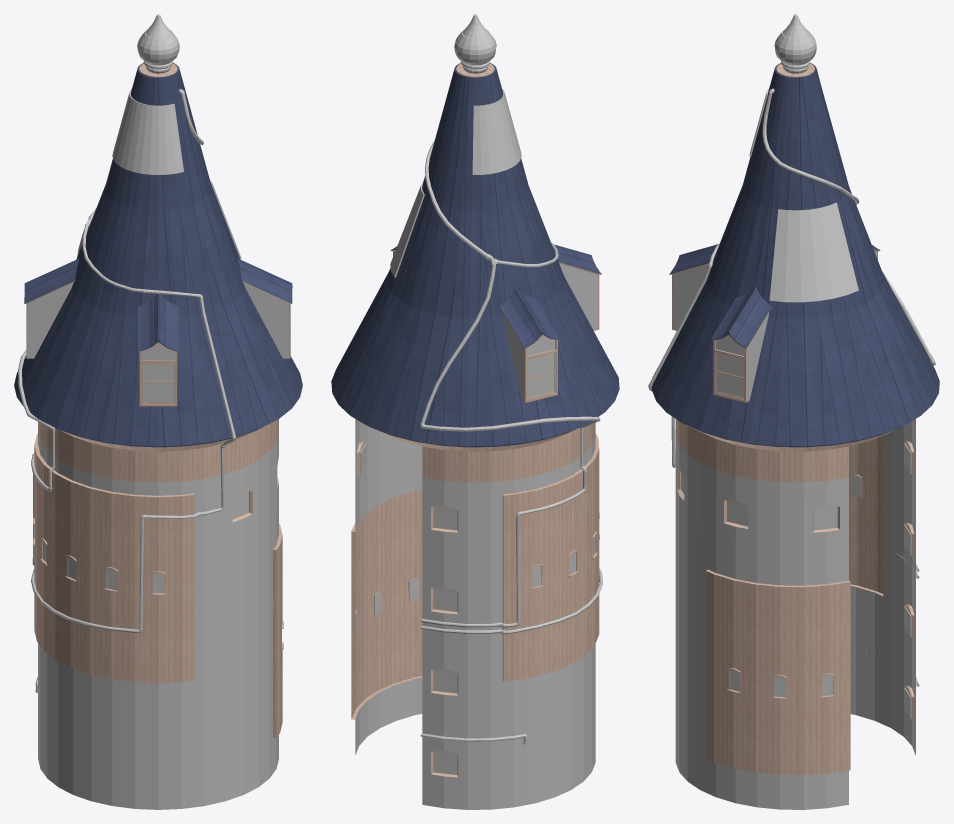
The model's file is REDUCTION_SM_ENV_KNVLLG_AreaH_Tower_A_2.mo.fbx.
3 views of the same model, side by side, from view 1: azimuth 30°, elevation 25°; view 2: azimuth 150°, elevation 25°; view 3: azimuth 270°, elevation 25° (orthographic).
Parts seen in each view (by area): view 1: REDUCTION_SM_ENV_KNVLLG_AreaH_Tower_A_2.mo; view 2: REDUCTION_SM_ENV_KNVLLG_AreaH_Tower_A_2.mo; view 3: REDUCTION_SM_ENV_KNVLLG_AreaH_Tower_A_2.mo.
Part boxes in pixels (x1,y1,x2,y2): REDUCTION_SM_ENV_KNVLLG_AreaH_Tower_A_2.mo: [14, 14, 302, 809]; REDUCTION_SM_ENV_KNVLLG_AreaH_Tower_A_2.mo: [331, 14, 619, 809]; REDUCTION_SM_ENV_KNVLLG_AreaH_Tower_A_2.mo: [648, 14, 939, 809].
Bounding box in the file's own units: 19.4 × 54.64 × 19.39.
